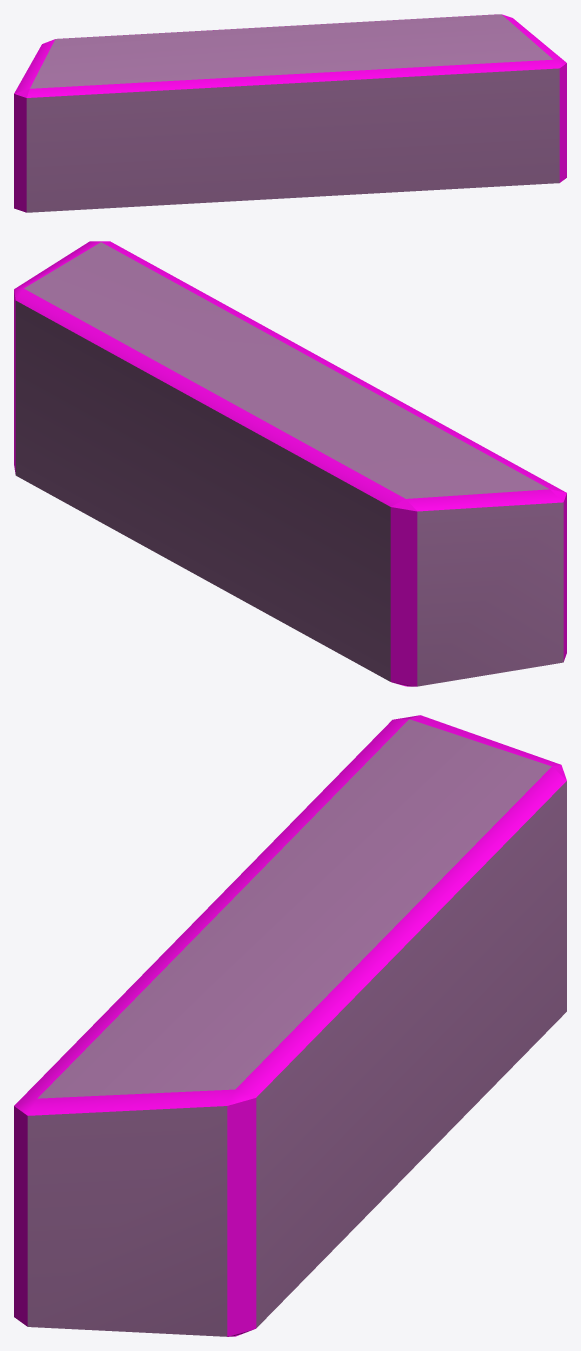
The model's file is PinkL3.fbx.
The picture shows the model from 3 angles, top to bottom: view 1: azimuth 30°, elevation 25°; view 2: azimuth 150°, elevation 25°; view 3: azimuth 270°, elevation 25°; orthographic projection. The views are drawn at different scales.
Parts seen in each view (by area): view 1: polySurface47; view 2: polySurface47; view 3: polySurface47.
Boxes of the visible parts, x1,y1,x2,y2 form: polySurface47: (14,14,566,212); polySurface47: (14,241,566,686); polySurface47: (14,715,566,1336).
Bounding box in the file's own units: 2.51 × 0.7213 × 1.46.
